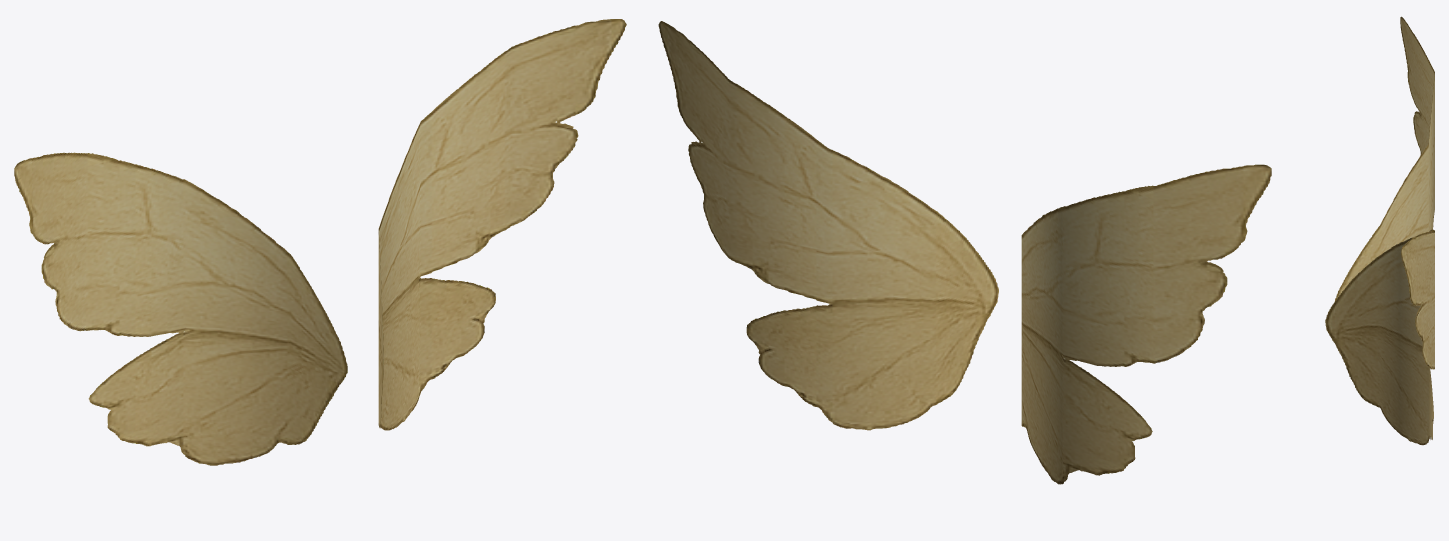
The picture shows the model from 3 angles, left to right: view 1: azimuth 30°, elevation 25°; view 2: azimuth 150°, elevation 25°; view 3: azimuth 270°, elevation 25°; orthographic projection. The views are drawn at different scales.
Visible parts, largest first — view 1: lv1; view 2: lv1; view 3: lv1.
Boxes of the visible parts, x1=… form: lv1: x1=14, y1=19, x2=626, y2=465; lv1: x1=658, y1=21, x2=1271, y2=484; lv1: x1=1325, y1=16, x2=1434, y2=445.
Size of the model in its own units: 179 by 101 by 43.9.
